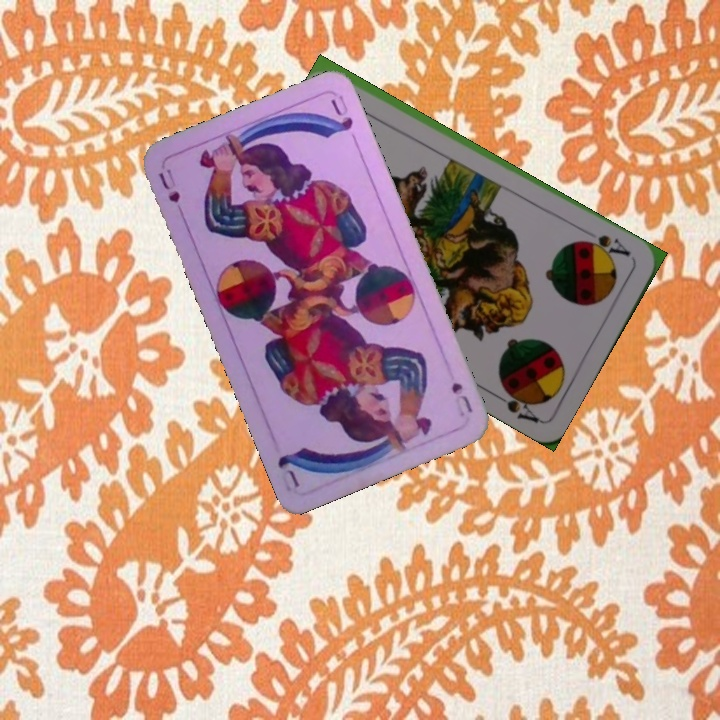SA: (577, 230, 633, 261)
SU: (155, 164, 187, 221), (447, 378, 476, 419)
